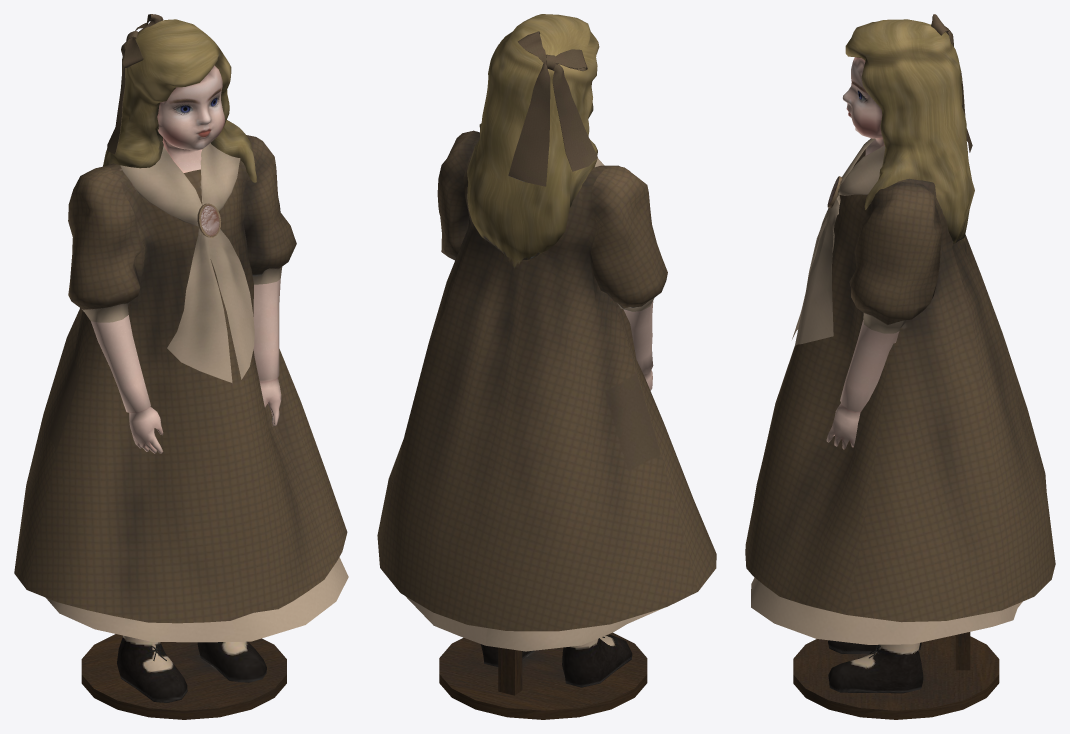
The model's file is doll.FBX.
3 views of the same model, side by side, from view 1: azimuth 30°, elevation 25°; view 2: azimuth 150°, elevation 25°; view 3: azimuth 270°, elevation 25° (orthographic).
Parts seen in each view (by area): view 1: doll; view 2: doll; view 3: doll.
Boxes of the visible parts, x1=… form: doll: x1=14, y1=14, x2=348, y2=719; doll: x1=377, y1=14, x2=716, y2=719; doll: x1=745, y1=14, x2=1055, y2=719.
Bounding box in the file's own units: 0.2023 × 0.4159 × 0.1787.
1 material, 1 textured.
